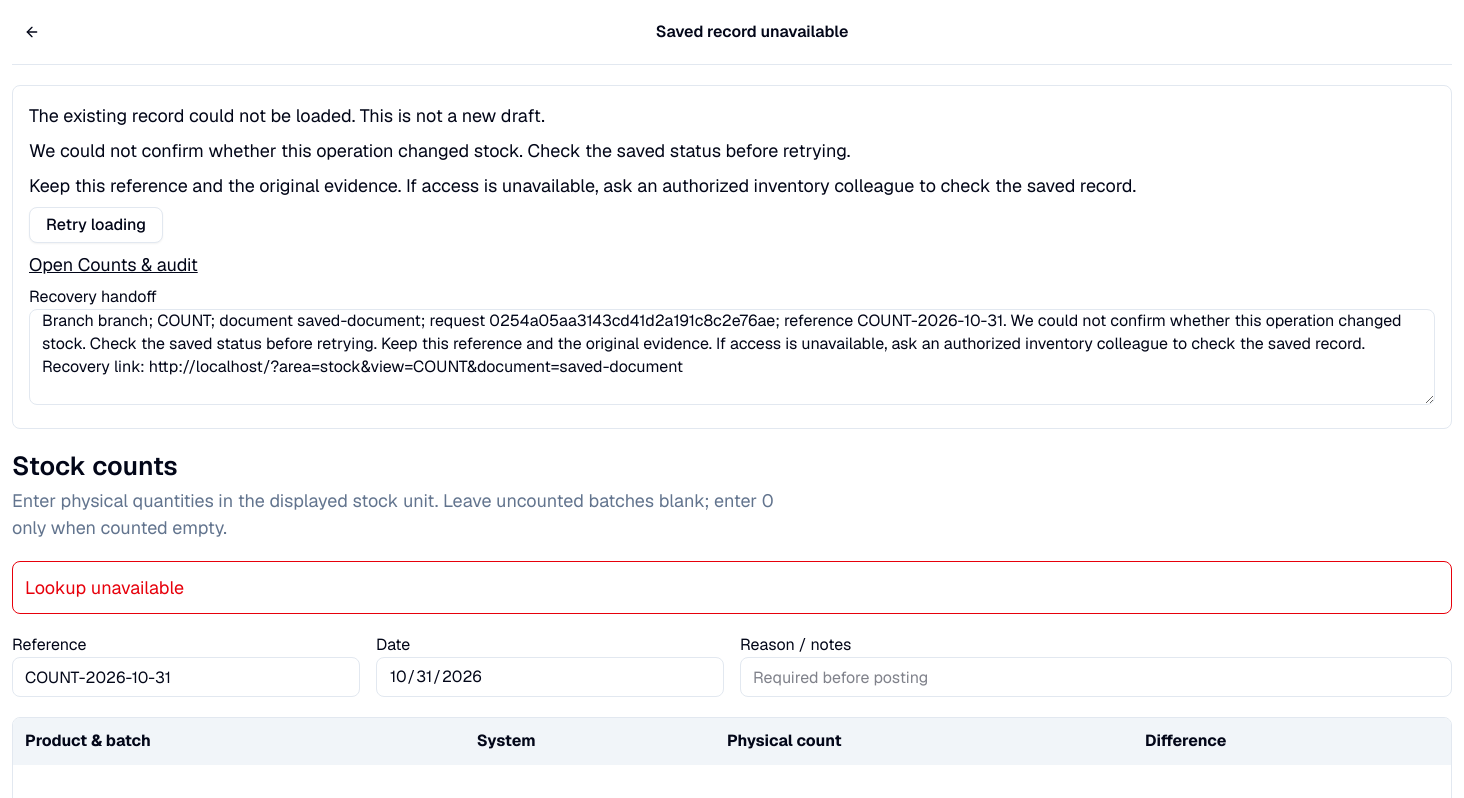
keeps a failed existing lookup distinct from a new draft and retries the exact ID
This screenshot has width=1464, height=798.
Expected: the text box "saved-document" is shown, [29, 309, 1435, 405]
What coordinates should you click on to do the following:
click the button "Retry loading"
I would click on:
 (96, 225)
Its box is [29, 207, 163, 243].
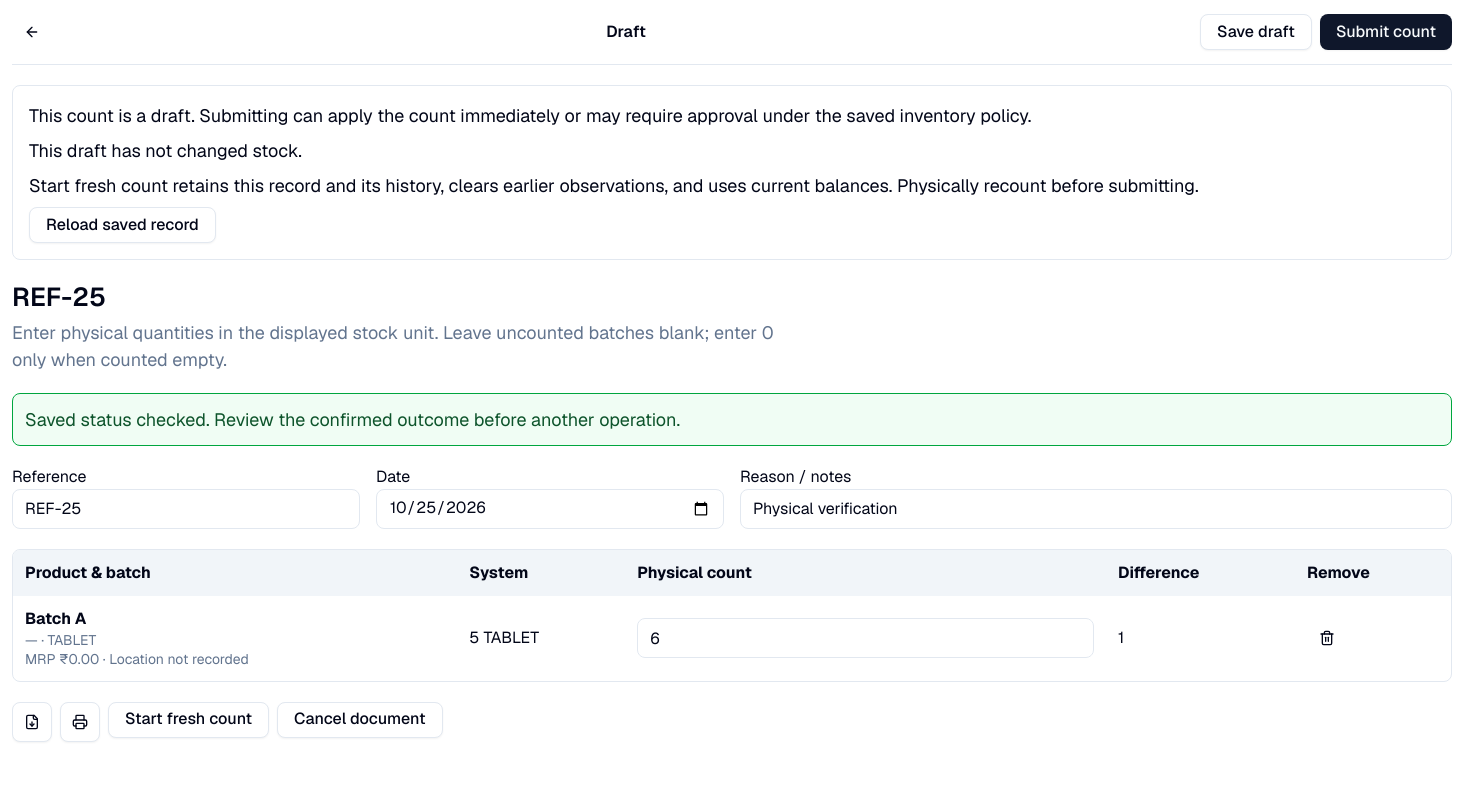
Result: the button "Submit count" is enabled at [1320, 14, 1452, 50]
